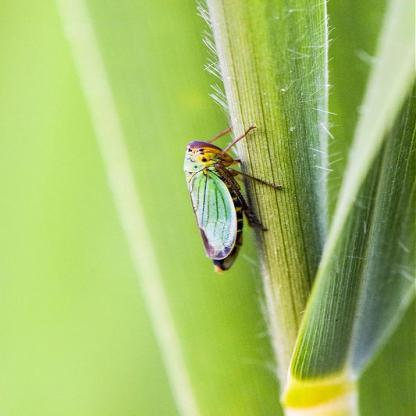Green-Leafhopper: (170, 122, 294, 276)
